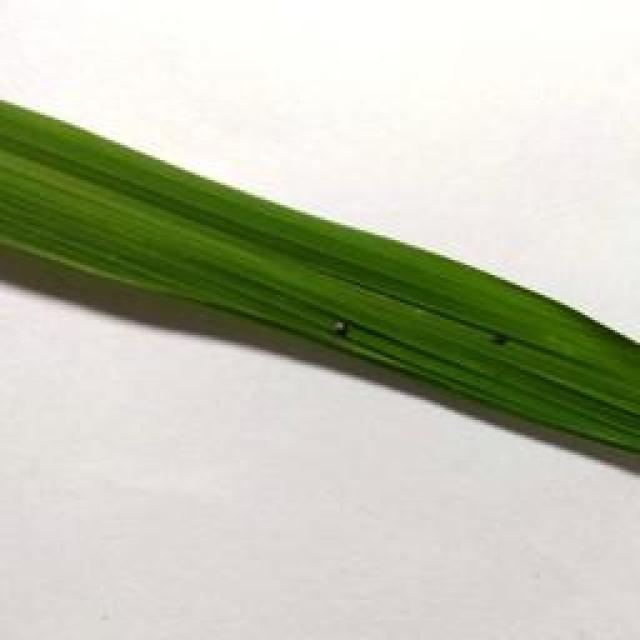Brown_Spot: (321, 304, 361, 348), (489, 326, 516, 364)
